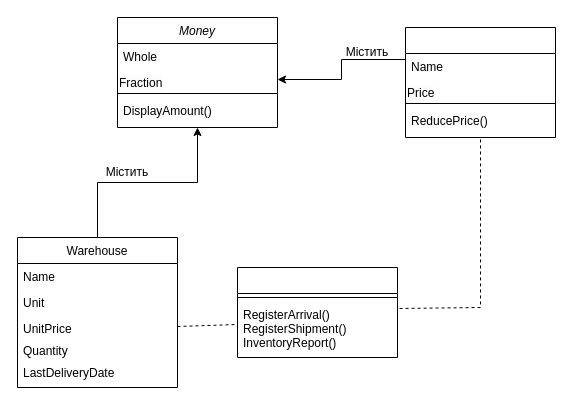
This 573x406 diagram has some shape labels left out. The box of each missing label's shape, as (x1, y1, x2, y2) in pixels:
Product: (404, 26, 556, 138)
Reporting: (236, 266, 398, 358)
